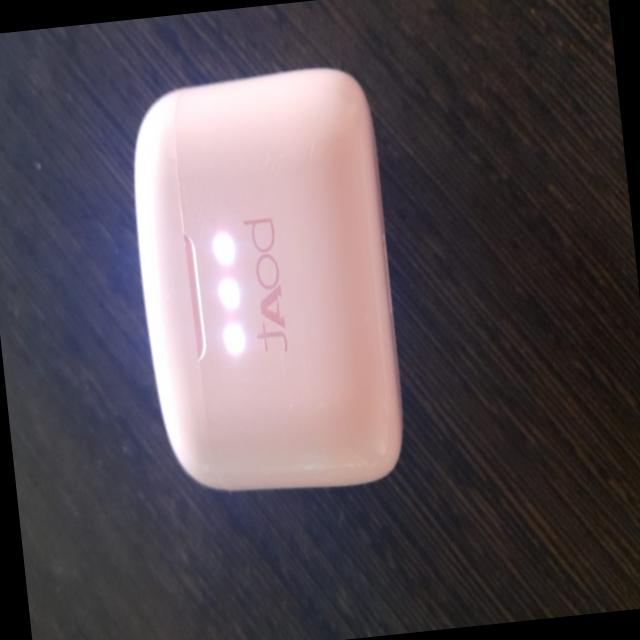Others: (102, 38, 430, 522)
